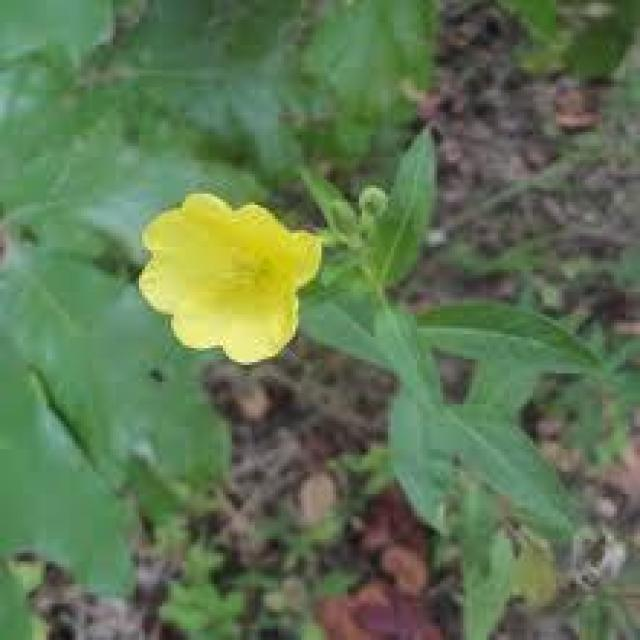other: (126, 180, 327, 357)
